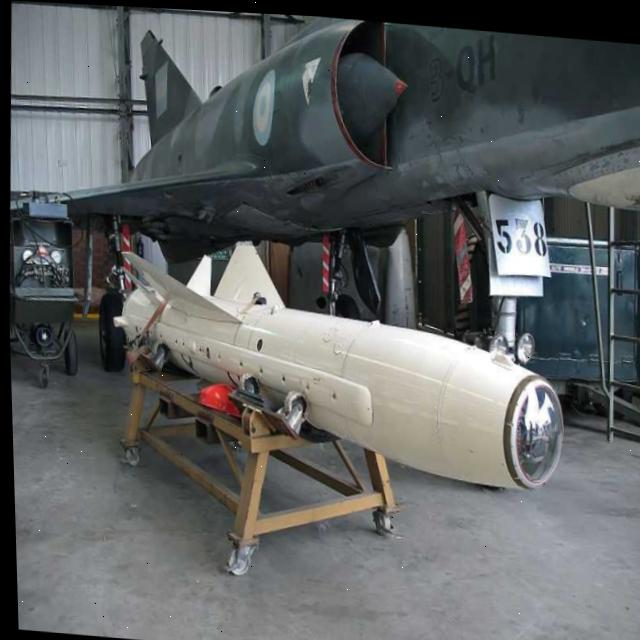missile: (106, 229, 572, 489)
